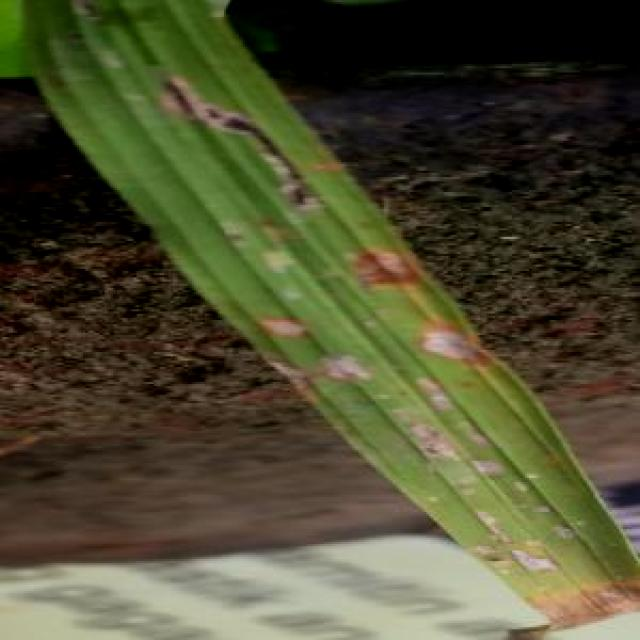Brown_Spot: (164, 70, 301, 240), (349, 233, 416, 311)
